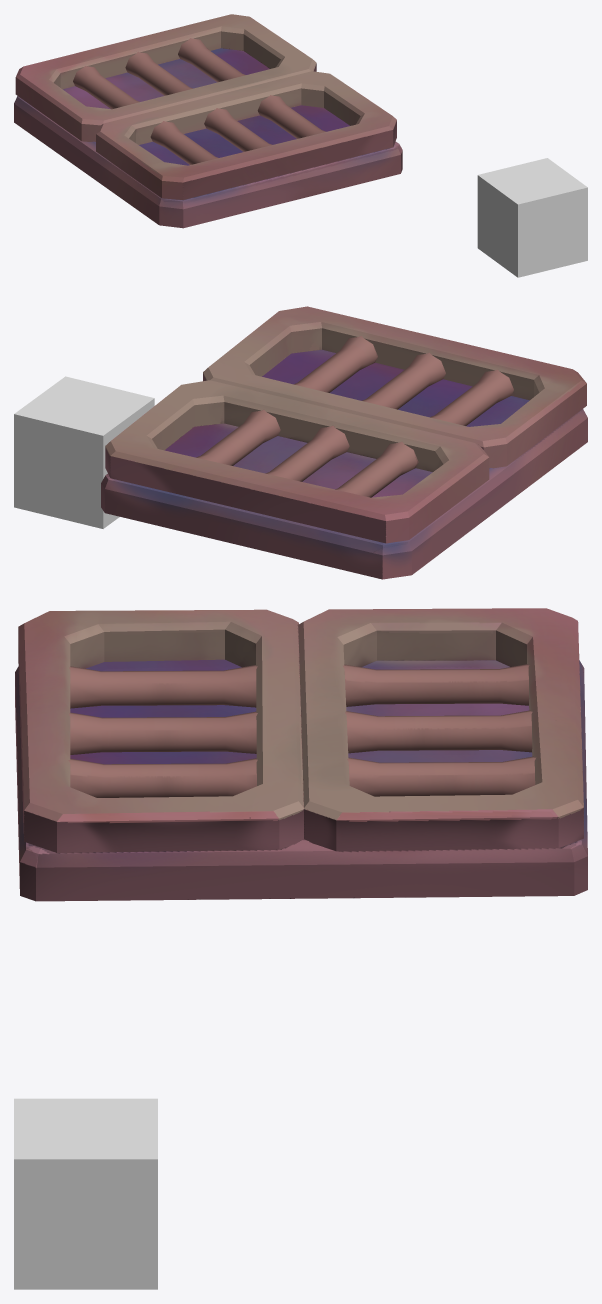
File: trade-floor004.fbx
The picture shows the model from 3 angles, top to bottom: view 1: azimuth 30°, elevation 25°; view 2: azimuth 150°, elevation 25°; view 3: azimuth 270°, elevation 25°; orthographic projection. The views are drawn at different scales.
Parts seen in each view (by area): view 1: Cube.032, trade-floor004; view 2: Cube.032, trade-floor004; view 3: Cube.032, trade-floor004.
Boxes of the visible parts, x1,y1,x2,y2 form: Cube.032: [14, 14, 402, 228]; trade-floor004: [477, 158, 587, 277]; Cube.032: [101, 306, 587, 579]; trade-floor004: [14, 376, 154, 528]; Cube.032: [15, 608, 587, 901]; trade-floor004: [14, 1098, 157, 1289].
Bounding box in the file's own units: 471 × 190 × 311.
